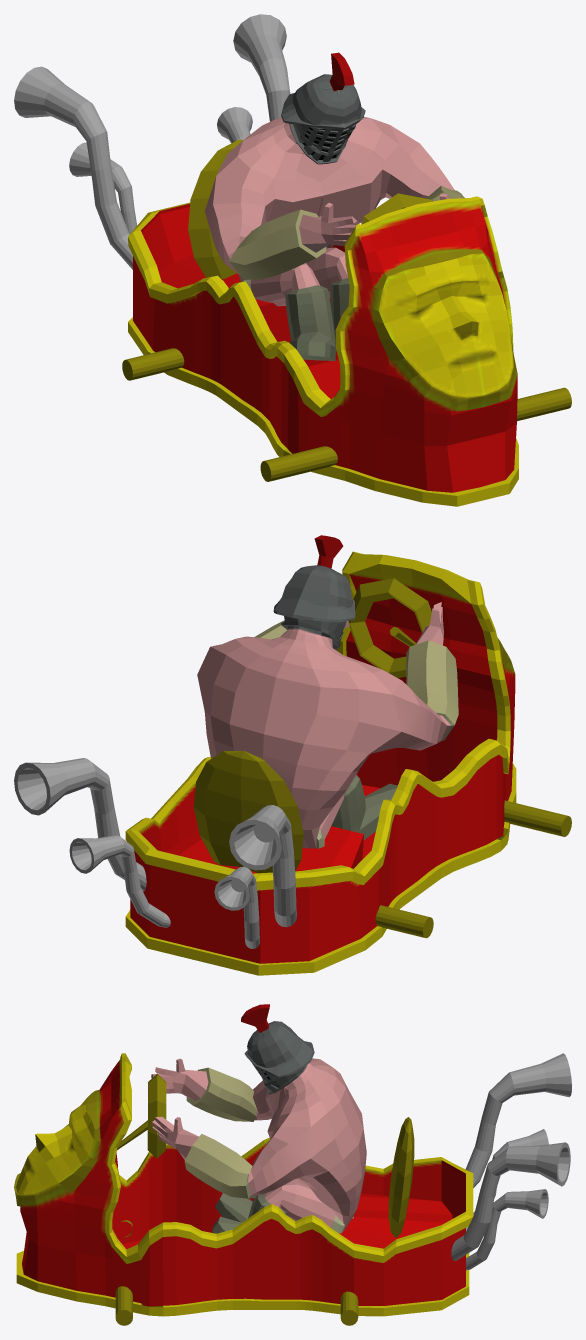
The model's file is gladiVacile_000589.obj.
The picture shows the model from 3 angles, top to bottom: view 1: azimuth 30°, elevation 25°; view 2: azimuth 150°, elevation 25°; view 3: azimuth 270°, elevation 25°; orthographic projection. The views are drawn at different scales.
Visible parts, largest first — view 1: GladiChasis_GladiChasisH, Gadiador_Gladiador_H.001, GladiTubos_GladiTubosH, GladiVolante_GladiVolanteH; view 2: GladiChasis_GladiChasisH, Gadiador_Gladiador_H.001, GladiTubos_GladiTubosH, GladiVolante_GladiVolanteH; view 3: GladiChasis_GladiChasisH, Gadiador_Gladiador_H.001, GladiTubos_GladiTubosH, GladiVolante_GladiVolanteH.
Boxes of the visible parts, x1,y1,x2,y2 form: GladiChasis_GladiChasisH: (128, 196, 518, 506); Gadiador_Gladiador_H.001: (204, 52, 464, 360); GladiTubos_GladiTubosH: (14, 14, 290, 269); GladiVolante_GladiVolanteH: (122, 139, 571, 481); GladiChasis_GladiChasisH: (125, 551, 516, 975); Gadiador_Gladiador_H.001: (197, 535, 458, 848); GladiTubos_GladiTubosH: (14, 758, 296, 948); GladiVolante_GladiVolanteH: (193, 578, 571, 938); GladiChasis_GladiChasisH: (14, 1053, 473, 1316); Gadiador_Gladiador_H.001: (151, 1004, 366, 1233); GladiTubos_GladiTubosH: (451, 1053, 571, 1270); GladiVolante_GladiVolanteH: (115, 1073, 414, 1325).
Bounding box in the file's own units: 5.46 × 5.76 × 10.78.
